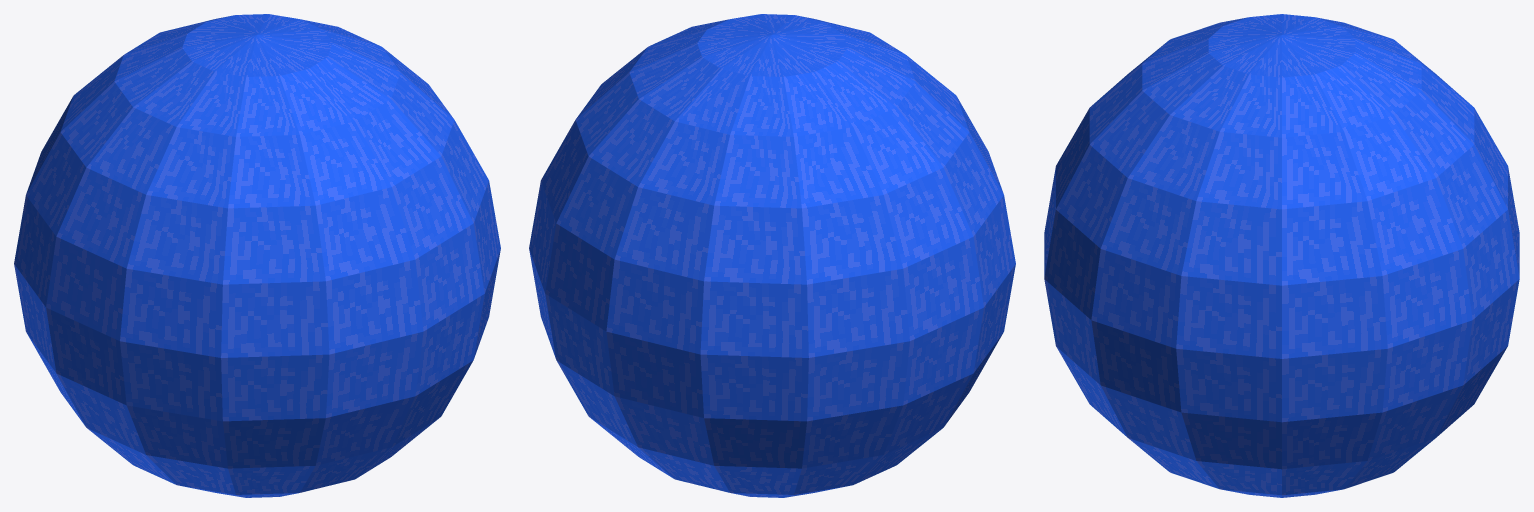
3 renders of one model, left to right at view 1: azimuth 30°, elevation 25°; view 2: azimuth 150°, elevation 25°; view 3: azimuth 270°, elevation 25°, orthographic.
Visible parts, largest first — view 1: SphereInner; view 2: SphereInner; view 3: SphereInner.
Boxes of the visible parts, <box> form: SphereInner: <box>14,14,500,497</box>; SphereInner: <box>529,14,1015,497</box>; SphereInner: <box>1044,14,1519,497</box>.
Size of the model in its own units: 2 by 2 by 1.95.
